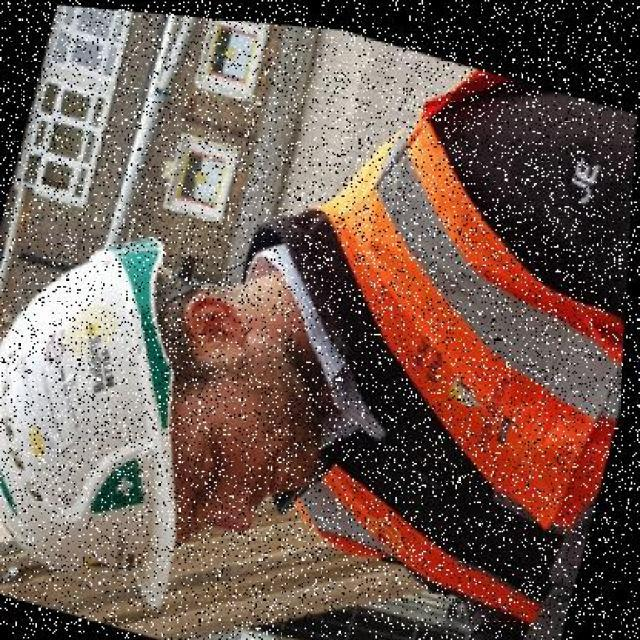helmet: (0, 161, 269, 619)
vest: (249, 26, 639, 619)
